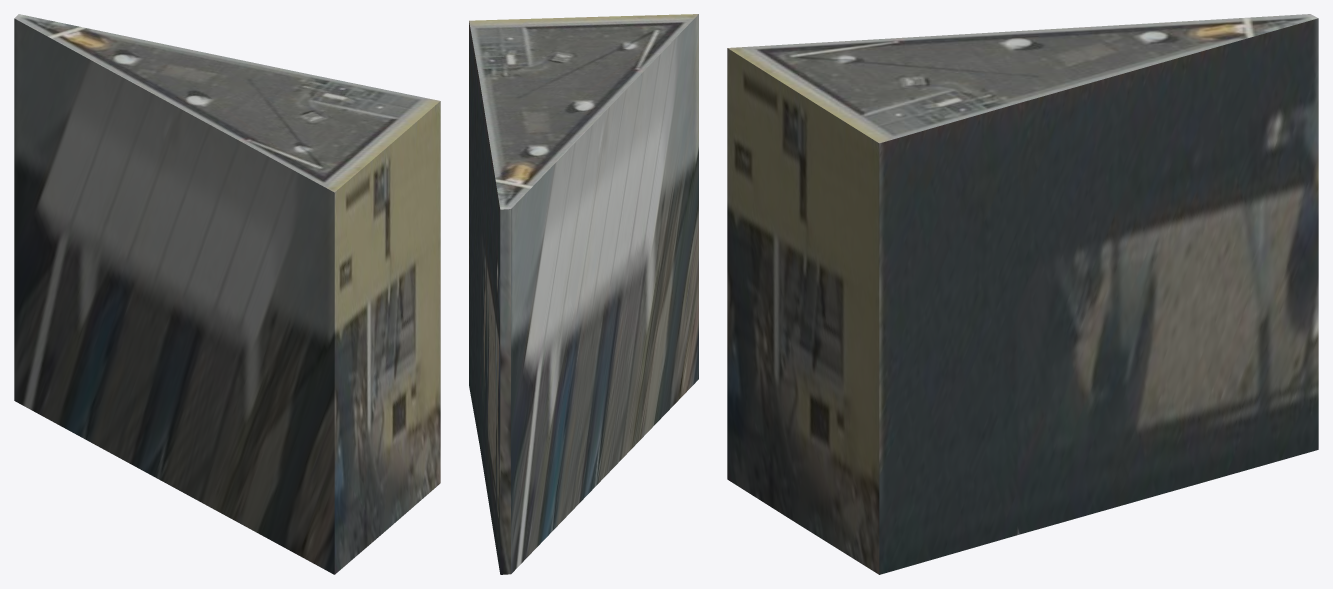
Rendered from {FC3CB476-D9C7-4EC3-BA26-84A6338FEEBF}.dae.
3 renders of one model, left to right at view 1: azimuth 30°, elevation 25°; view 2: azimuth 150°, elevation 25°; view 3: azimuth 270°, elevation 25°, orthographic. The views are drawn at different scales.
Bounding box in the file's own units: 13.28 × 25.63 × 20.65.
7 materials, 6 textured.
